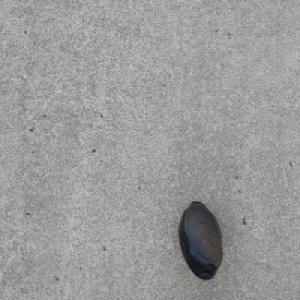FuelCap: (177, 198, 223, 282)
